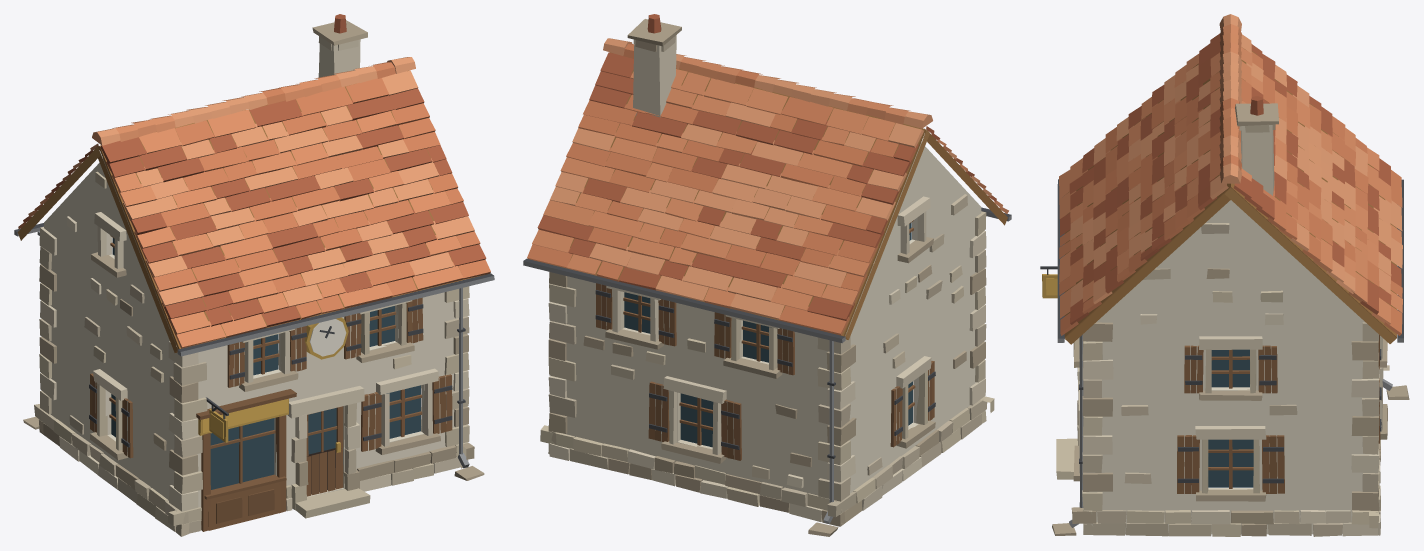
The model's file is horloger.glb.
The picture shows the model from 3 angles, left to right: view 1: azimuth 30°, elevation 25°; view 2: azimuth 150°, elevation 25°; view 3: azimuth 270°, elevation 25°; orthographic projection. The views are drawn at different scales.
Parts seen in each view (by area): view 1: horloger; view 2: horloger; view 3: horloger.
Boxes of the visible parts, x1=… form: horloger: x1=14, y1=14, x2=494, y2=536; horloger: x1=523, y1=14, x2=1011, y2=536; horloger: x1=1040, y1=14, x2=1409, y2=536.
Bounding box in the file's own units: 7.83 × 9.52 × 7.66.
